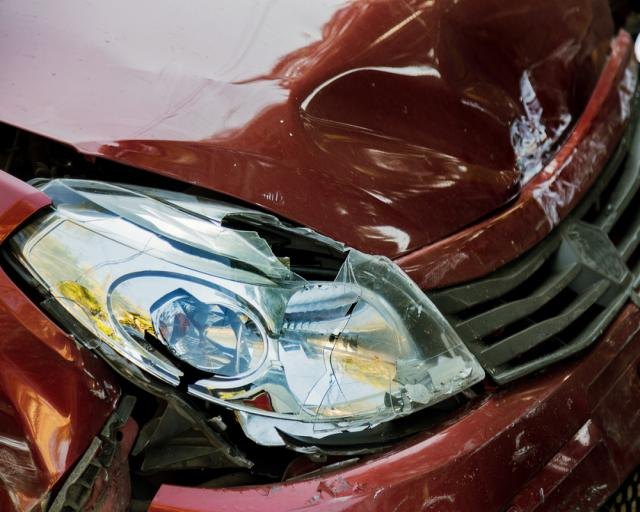dent: (303, 0, 589, 192)
lamp broken: (11, 182, 488, 452)
scratch: (526, 58, 638, 230)
